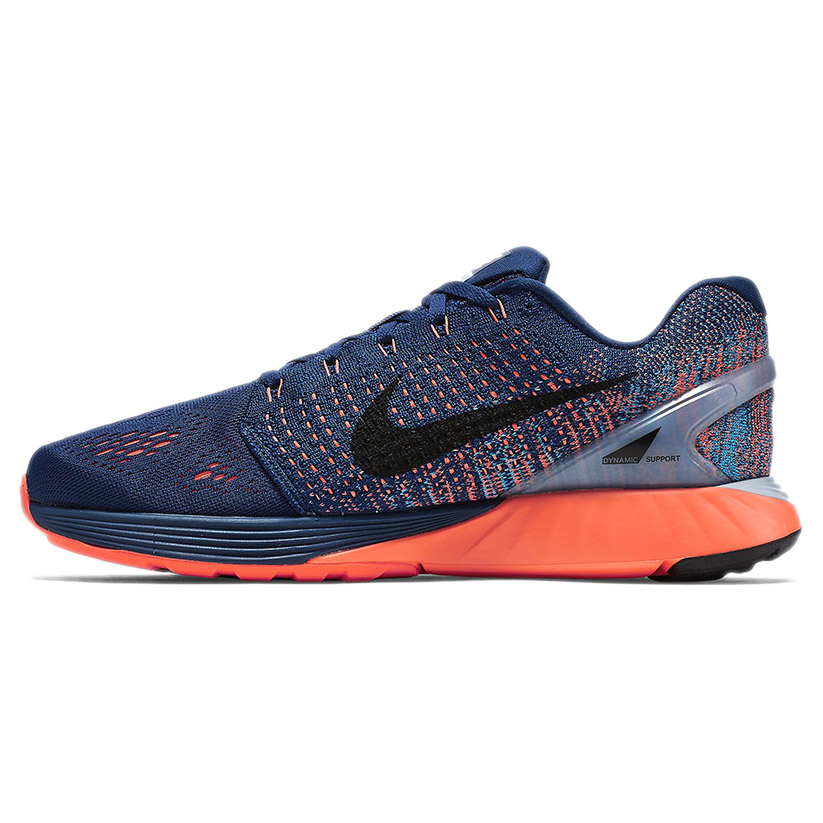Nike: (347, 359, 642, 487)
